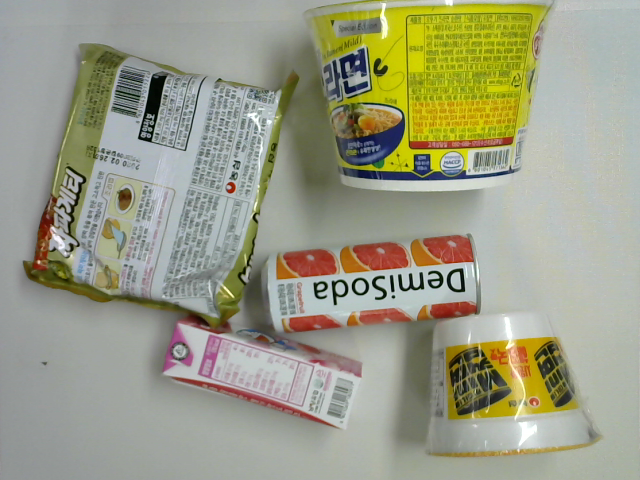Demisoda_Grapefruit_Can_250ml: (256, 227, 484, 339)
Hejangmini: (421, 305, 608, 460)
Jinlamyeon_Mild_Taste_Large_Cup: (300, 1, 555, 194)
Olive_Chapaghetti: (20, 41, 304, 334)
Strawberry_E_Mong: (155, 313, 368, 436)
